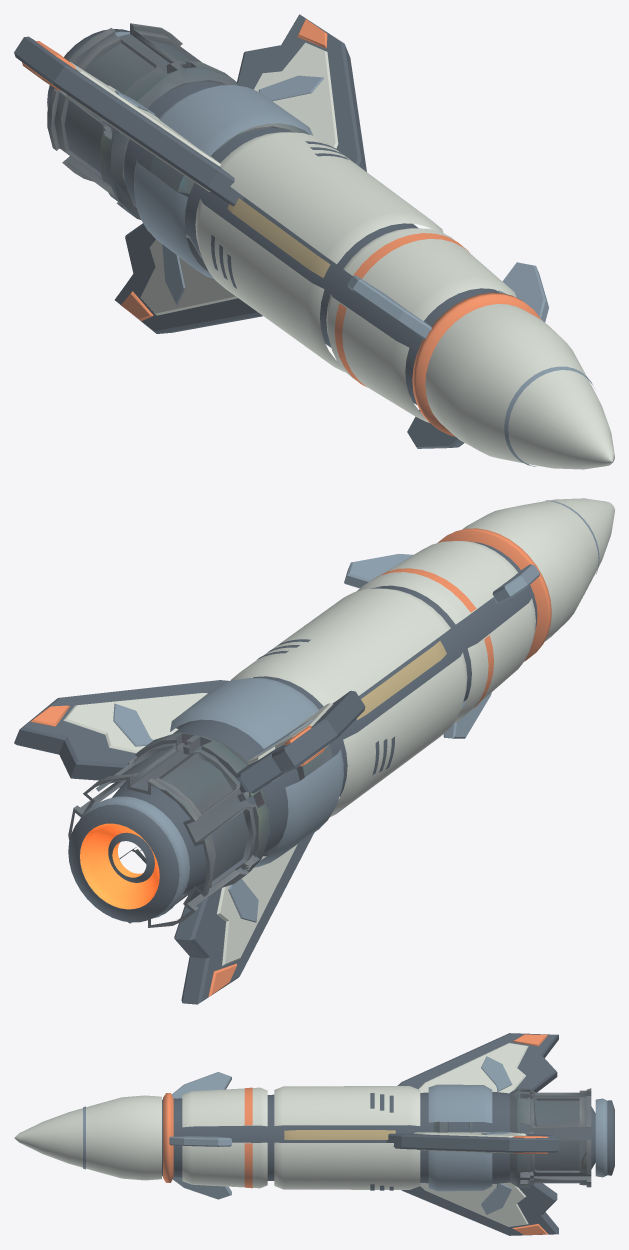
File: artillery-missile.glb
3 views of the same model, one above another, from view 1: azimuth 30°, elevation 25°; view 2: azimuth 150°, elevation 25°; view 3: azimuth 270°, elevation 25° (orthographic). The views are drawn at different scales.
Parts seen in each view (by area): view 1: Artillery missile; view 2: Artillery missile; view 3: Artillery missile.
Part boxes in pixels (x1,y1,x2,y2): Artillery missile: [14, 14, 614, 469]; Artillery missile: [14, 498, 614, 1004]; Artillery missile: [14, 1033, 614, 1235].
Size of the model in its own units: 0.3341 by 0.3157 by 1.
